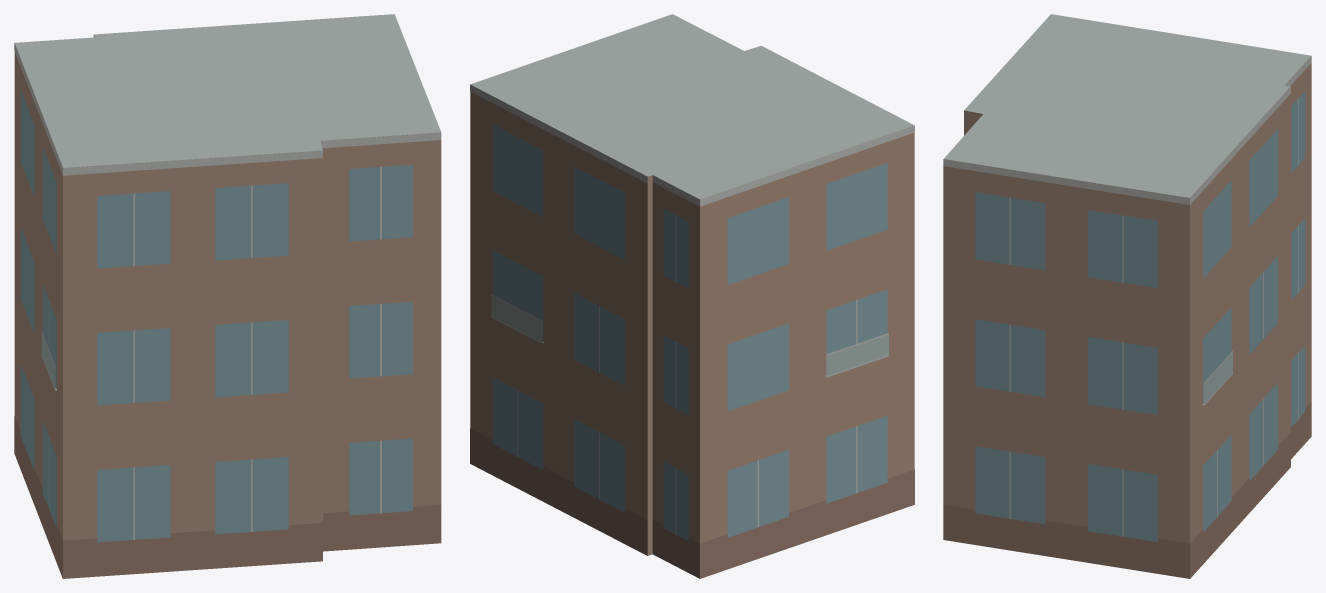
The model's file is survey-upis-32500223.glb.
3 renders of one model, left to right at view 1: azimuth 30°, elevation 25°; view 2: azimuth 150°, elevation 25°; view 3: azimuth 270°, elevation 25°, orthographic. The views are drawn at different scales.
Visible parts, largest first — view 1: survey-upis-32500223.tmp; view 2: survey-upis-32500223.tmp; view 3: survey-upis-32500223.tmp.
Boxes of the visible parts, <box> form: survey-upis-32500223.tmp: <box>14,14,441,578</box>; survey-upis-32500223.tmp: <box>470,14,914,578</box>; survey-upis-32500223.tmp: <box>943,14,1311,578</box>.
Bounding box in the file's own units: 13.58 × 13.1 × 11.48.
